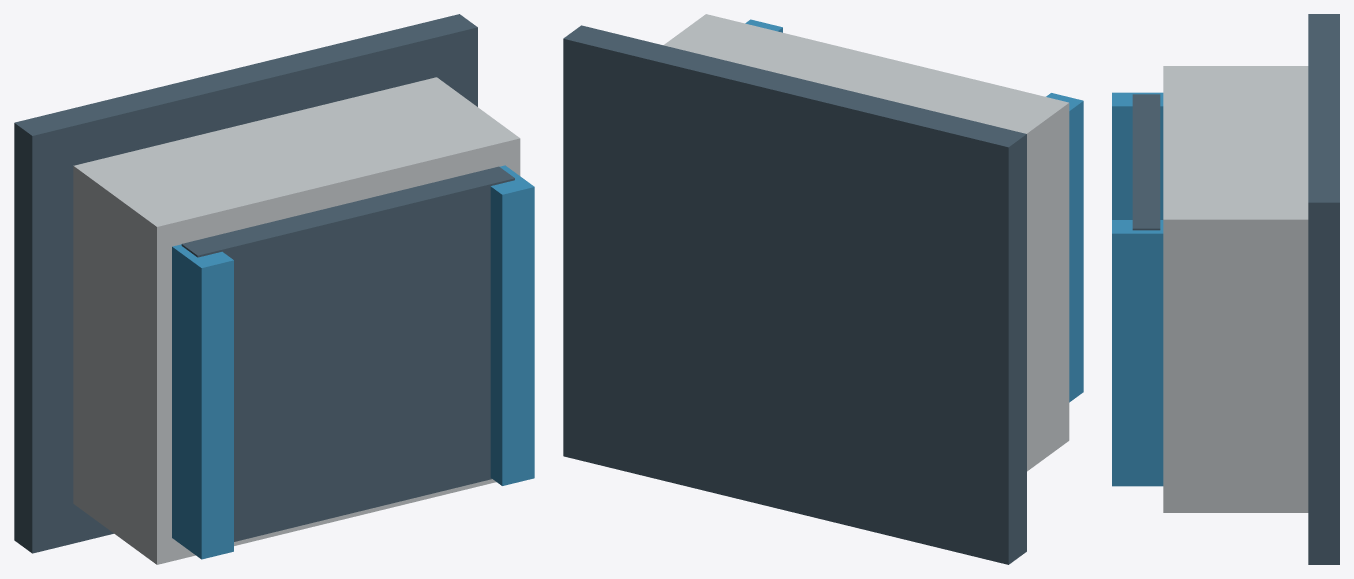
File: b_barracks.glb
The picture shows the model from 3 angles, left to right: view 1: azimuth 30°, elevation 25°; view 2: azimuth 150°, elevation 25°; view 3: azimuth 270°, elevation 25°; orthographic projection. The views are drawn at different scales.
Parts seen in each view (by area): view 1: roof, main_structure, foundation, support_-1.6199999999999999, support_1.6199999999999999; view 2: foundation, main_structure, support_-1.6199999999999999; view 3: main_structure, foundation, support_1.6199999999999999, roof, support_-1.6199999999999999.
Boxes of the visible parts, x1,y1,x2,y2 form: roof: (181,166,514,541); main_structure: (73,77,520,564); foundation: (14,14,477,553); support_-1.6199999999999999: (172,244,233,559); support_1.6199999999999999: (490,165,534,485); foundation: (563,25,1026,564); main_structure: (663,14,1069,471); support_-1.6199999999999999: (1046,93,1083,402); main_structure: (1163,66,1308,512); foundation: (1308,14,1339,564); support_1.6199999999999999: (1112,220,1163,486); roof: (1132,94,1160,230); support_-1.6199999999999999: (1112,92,1163,219).
Size of the model in its own units: 4.8 by 4.3 by 2.45.
